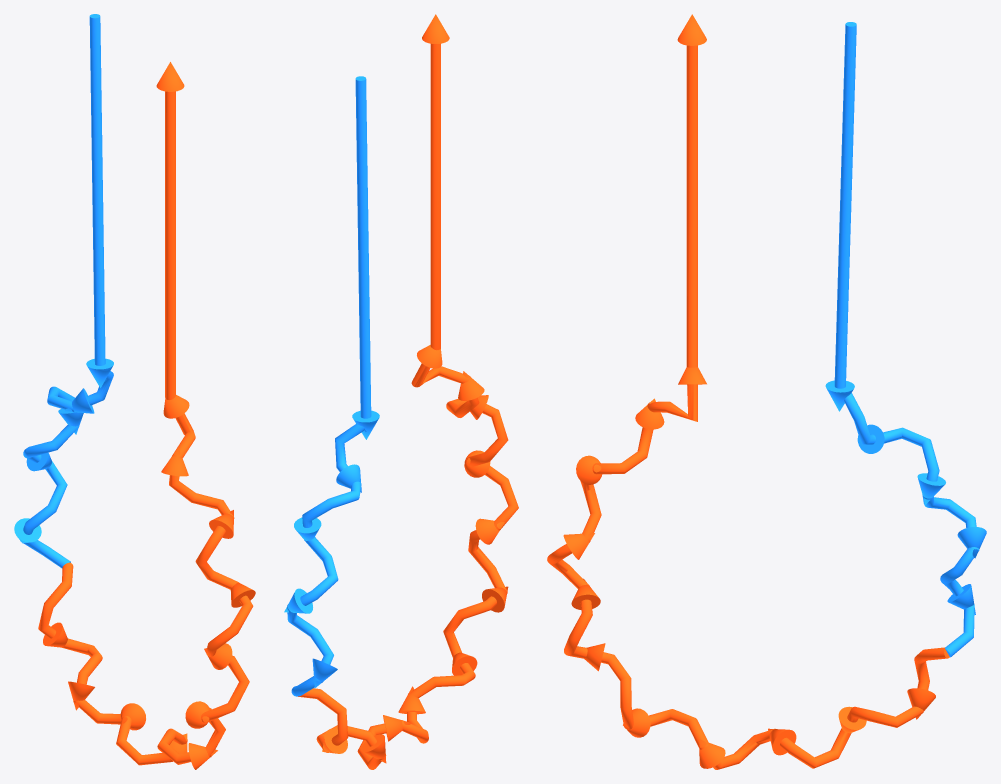
Rendered from regenerative_turbine_pump_flow.glb.
3 views of the same model, side by side, from view 1: azimuth 30°, elevation 25°; view 2: azimuth 150°, elevation 25°; view 3: azimuth 270°, elevation 25° (orthographic). The views are drawn at different scales.
Parts seen in each view (by area): view 1: flow_discharge, flow_suction; view 2: flow_discharge, flow_suction; view 3: flow_discharge, flow_suction.
Part boxes in pixels (left/top/right/bottom): flow_discharge: left=38, top=62, right=255, bottom=769; flow_suction: left=14, top=14, right=113, bottom=568; flow_discharge: left=298, top=14, right=518, bottom=769; flow_suction: left=284, top=76, right=379, bottom=696; flow_discharge: left=547, top=14, right=949, bottom=769; flow_suction: left=825, top=22, right=986, bottom=657.
Size of the model in its own units: 0.0355 by 0.4397 by 0.2323.
